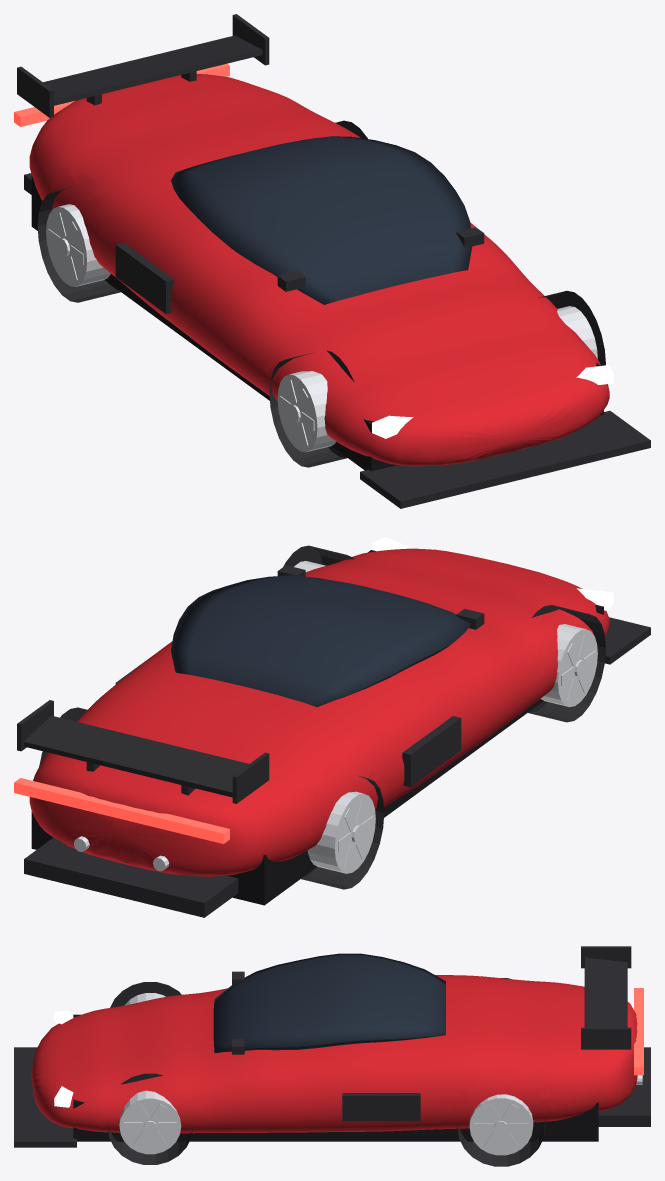
3 views of the same model, one above another, from view 1: azimuth 30°, elevation 25°; view 2: azimuth 150°, elevation 25°; view 3: azimuth 270°, elevation 25° (orthographic). The views are drawn at different scales.
Parts seen in each view (by area): view 1: Body, Glass, Splitter, Wing, Wheel_RL, Wheel_FL, Intake, Underbody, Wheel_FR, WingEnd, WingEnd.001, Taillight; view 2: Body, Glass, Wing, Diffuser, Wheel_RL, Wheel_FL, Underbody, Taillight, Intake, Splitter, WingEnd, Wheel_FR (+1 smaller); view 3: Body, Glass, Underbody, Wheel_FR, Wheel_RR, Splitter, Wing, Intake.001, Diffuser, WingEnd.001, Wheel_FL, Taillight (+1 smaller).
Boxes of the visible parts, left/top/right/bottom form: Body: left=29, top=74, right=609, bottom=466; Glass: left=171, top=136, right=471, bottom=304; Splitter: left=360, top=411, right=650, bottom=508; Wing: left=43, top=35, right=262, bottom=105; Wheel_RL: left=37, top=188, right=120, bottom=302; Wheel_FL: left=269, top=350, right=354, bottom=467; Intake: left=115, top=242, right=174, bottom=313; Underbody: left=31, top=176, right=603, bottom=471; Wheel_FR: left=538, top=290, right=605, bottom=365; WingEnd: left=17, top=66, right=53, bottom=117; WingEnd.001: left=232, top=14, right=269, bottom=65; Taillight: left=14, top=63, right=229, bottom=126; Body: left=29, top=548, right=609, bottom=876; Glass: left=171, top=575, right=471, bottom=706; Wing: left=23, top=715, right=248, bottom=797; Diffuser: left=24, top=837, right=238, bottom=917; Wheel_RL: left=301, top=775, right=384, bottom=889; Wheel_FL: left=528, top=605, right=605, bottom=722; Underbody: left=31, top=550, right=603, bottom=905; Taillight: left=14, top=778, right=229, bottom=843; Intake: left=402, top=716, right=461, bottom=787; Splitter: left=605, top=617, right=650, bottom=664; WingEnd: left=232, top=752, right=269, bottom=803; Wheel_FR: left=283, top=545, right=354, bottom=571; Body: left=31, top=975, right=637, bottom=1133; Glass: left=213, top=953, right=445, bottom=1052; Underbody: left=73, top=1014, right=598, bottom=1141; Wheel_FR: left=107, top=1073, right=193, bottom=1164; Wheel_RR: left=457, top=1094, right=545, bottom=1166; Splitter: left=14, top=1047, right=76, bottom=1147; Wing: left=584, top=957, right=627, bottom=1027; Intake.001: left=342, top=1093, right=420, bottom=1121; Diffuser: left=598, top=1047, right=650, bottom=1126; WingEnd.001: left=581, top=1027, right=631, bottom=1049; Wheel_FL: left=110, top=982, right=181, bottom=1007; Taillight: left=634, top=988, right=643, bottom=1075.
Bounding box in the file's own units: 2.09 × 1.13 × 5.04.
